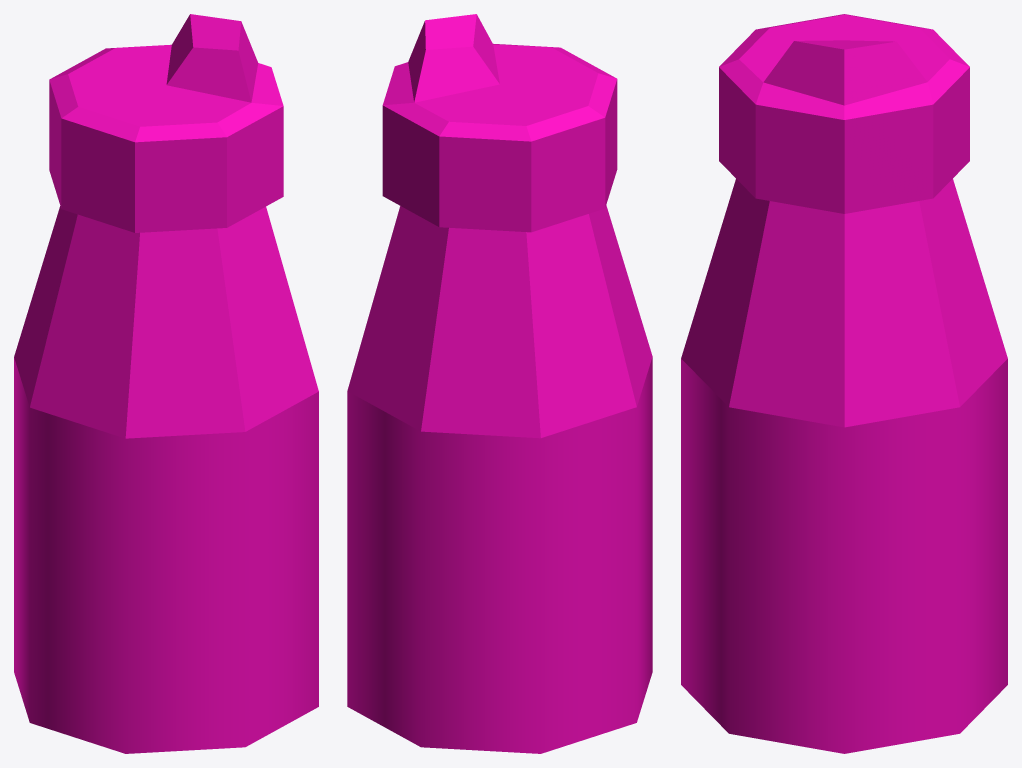
The model's file is study_drink_bottle_1_meshCollider.fbx.
3 views of the same model, side by side, from view 1: azimuth 30°, elevation 25°; view 2: azimuth 150°, elevation 25°; view 3: azimuth 270°, elevation 25° (orthographic). The views are drawn at different scales.
Visible parts, largest first — view 1: study_drink_bottle_1_meshCollider; view 2: study_drink_bottle_1_meshCollider; view 3: study_drink_bottle_1_meshCollider.
Boxes of the visible parts, <box> form: study_drink_bottle_1_meshCollider: <box>14,14,318,753</box>; study_drink_bottle_1_meshCollider: <box>347,14,652,753</box>; study_drink_bottle_1_meshCollider: <box>681,14,1007,753</box>.
Size of the model in its own units: 8.78 by 19.96 by 8.78.
